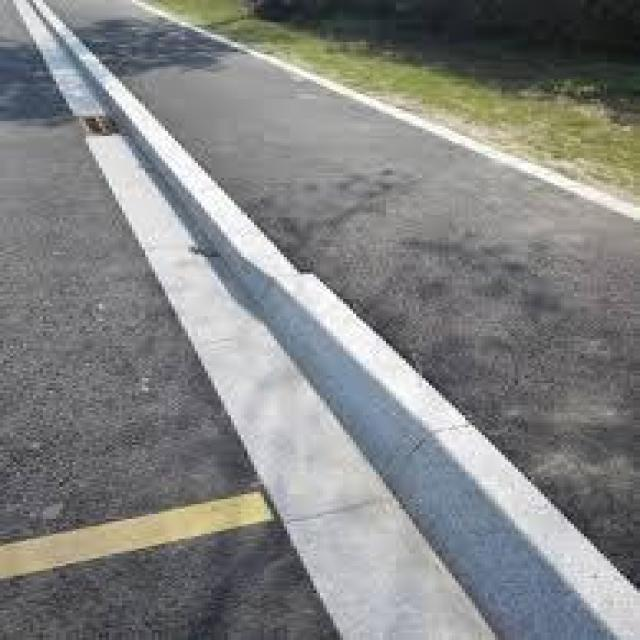curb: (194, 252, 475, 518), (331, 445, 637, 640), (34, 10, 175, 163), (127, 148, 268, 269)
